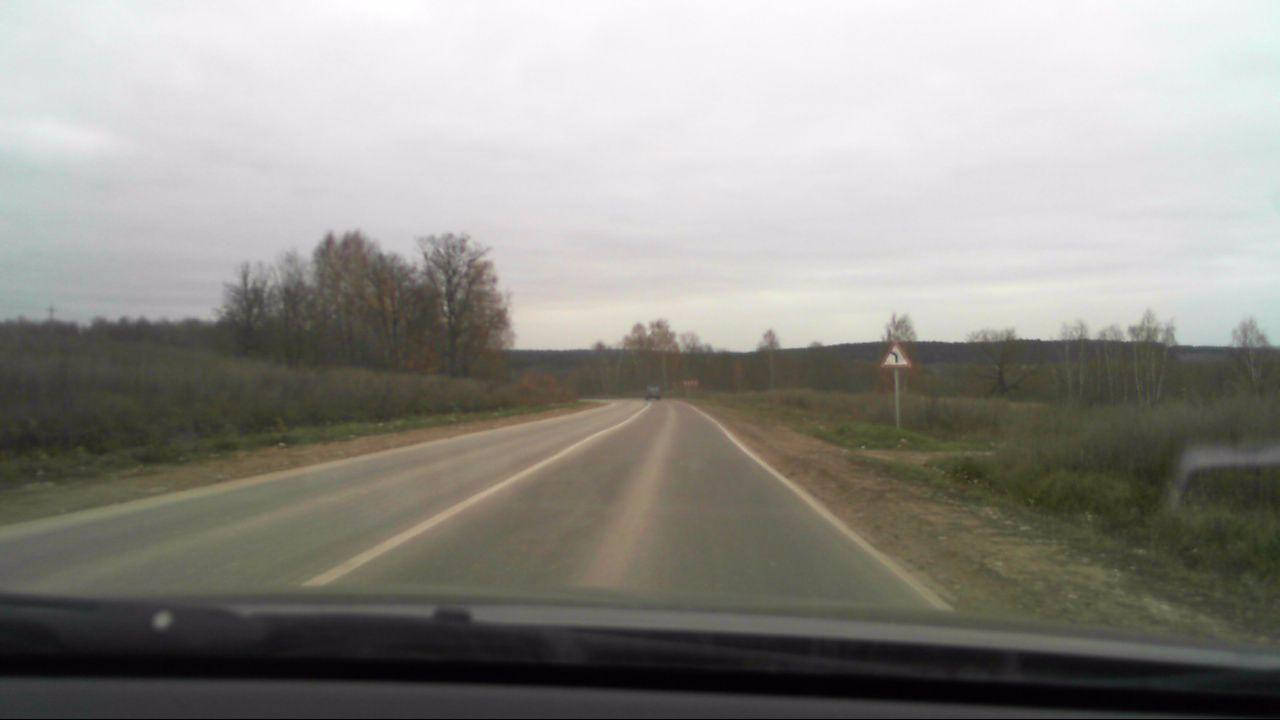1_11_2: (878, 340, 913, 372)
